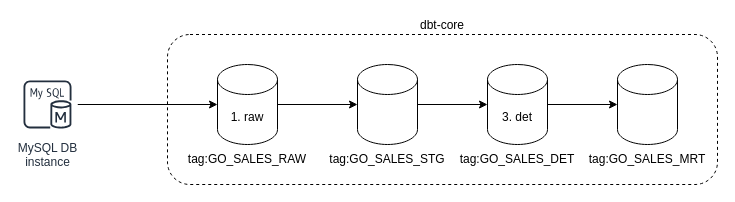
Some shapes in this 735 by 202 pixel diagram are drawn without their labels. The centre of each missing label's shape, as x and y in pixels:
"2. stg" goes at point 387,104.
"4. mrt" goes at point 647,104.
